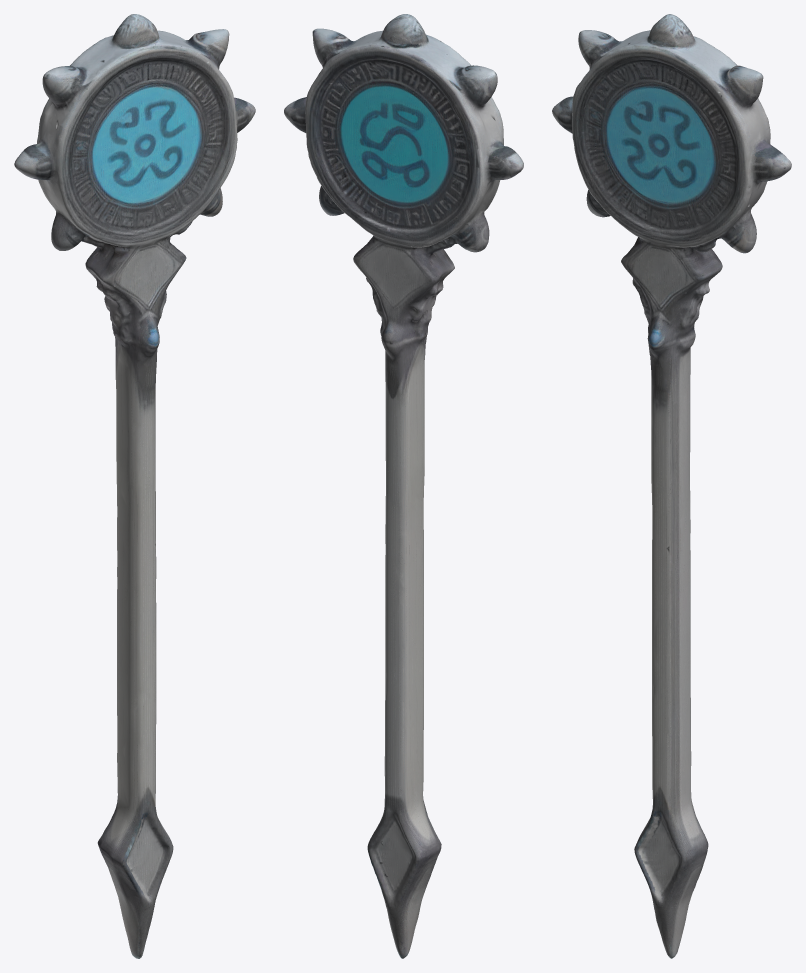
File: sigillo_prima_veglia.glb
3 renders of one model, left to right at view 1: azimuth 30°, elevation 25°; view 2: azimuth 150°, elevation 25°; view 3: azimuth 330°, elevation 25°, orthographic.
Size of the model in its own units: 0.5279 by 2 by 0.1434.
1 material, 1 textured.
